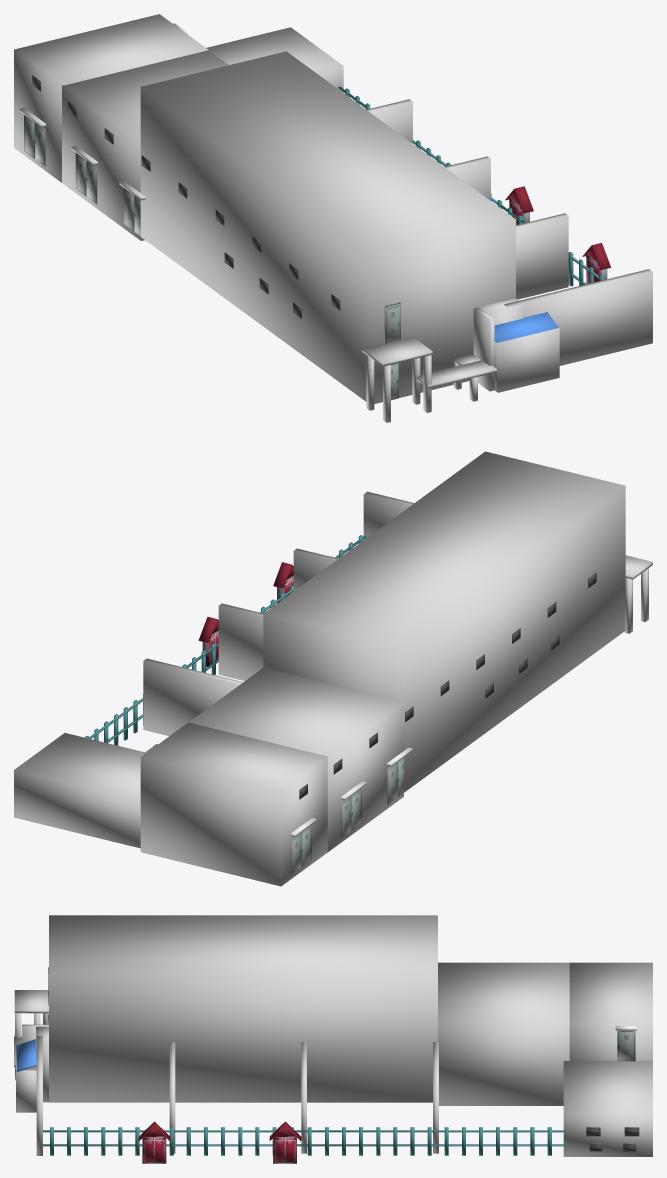
File: ts_3f_mini.gltf
3 views of the same model, one above another, from view 1: azimuth 30°, elevation 25°; view 2: azimuth 150°, elevation 25°; view 3: azimuth 270°, elevation 25° (orthographic). The views are drawn at different scales.
Visible parts, largest first — view 1: ts_waiguan_67, ts_waiguan_69, ts_waiguan_68, ts_waiguan_70, ts_waiguan_71, ts_waiguan_76, ts_waiguan_79, ts_waiguan_74, ts_waiguan_4, ts_waiguan_77, ts_waiguan_72, ts_waiguan_73 (+3 smaller); view 2: ts_waiguan_67, ts_waiguan_69, ts_waiguan_68, ts_waiguan_79, ts_waiguan_73, ts_waiguan_72, ts_waiguan_70, ts_waiguan_71; view 3: ts_waiguan_67, ts_waiguan_68, ts_waiguan_79, ts_waiguan_69, ts_waiguan_76, ts_waiguan_70, ts_waiguan_4, ts_waiguan_82, ts_waiguan_71, ts_waiguan_72, ts_waiguan_73, ts_waiguan_3 (+7 smaller).
Boxes of the visible parts, x1,y1,x2,y2 form: ts_waiguan_67: (140,51,515,403); ts_waiguan_69: (14,14,208,182); ts_waiguan_68: (62,50,228,240); ts_waiguan_70: (504,269,652,365); ts_waiguan_71: (516,213,568,299); ts_waiguan_76: (494,328,559,392); ts_waiguan_79: (206,27,343,92); ts_waiguan_74: (473,307,494,391); ts_waiguan_4: (362,336,432,366); ts_waiguan_77: (494,312,558,342); ts_waiguan_72: (444,156,490,200); ts_waiguan_73: (366,99,412,143); ts_waiguan_67: (263,451,625,792); ts_waiguan_69: (140,722,328,886); ts_waiguan_68: (189,667,403,852); ts_waiguan_79: (14,733,144,848); ts_waiguan_73: (143,658,243,736); ts_waiguan_72: (218,603,263,680); ts_waiguan_70: (363,491,414,539); ts_waiguan_71: (293,548,337,590); ts_waiguan_67: (49,915,437,1102); ts_waiguan_68: (438,962,569,1105); ts_waiguan_79: (563,1061,652,1156); ts_waiguan_69: (569,962,652,1060); ts_waiguan_76: (16,1045,36,1112); ts_waiguan_70: (36,1035,42,1155); ts_waiguan_4: (14,990,48,1013); ts_waiguan_82: (142,1136,166,1163); ts_waiguan_71: (169,1042,175,1153); ts_waiguan_72: (301,1042,306,1153); ts_waiguan_73: (433,1042,438,1153); ts_waiguan_3: (273,1136,296,1163).
Bounding box in the file's own units: 29.31 × 14.31 × 63.51.
Materials: 14 (9 with a texture image).
